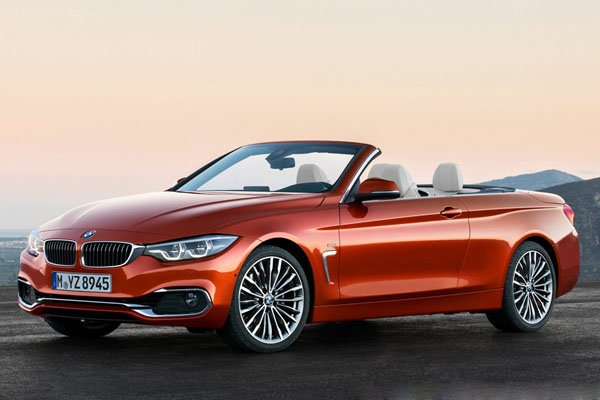car: (16, 141, 581, 351)
